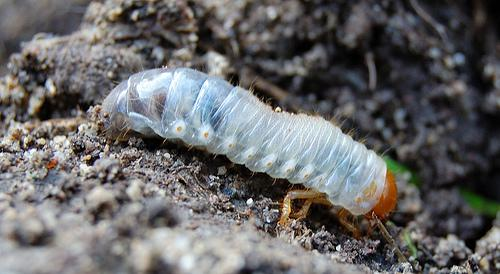grub: (99, 62, 421, 246)
